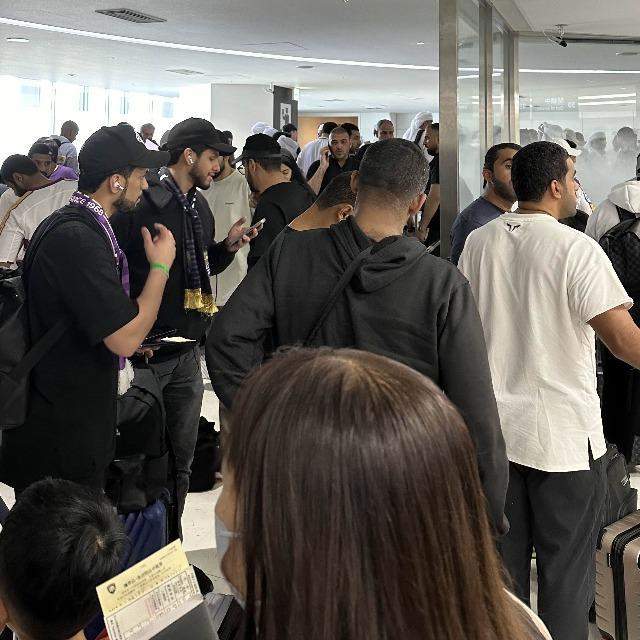NoHelmet: (354, 138, 431, 219), (509, 142, 583, 214)
NoVest: (458, 218, 615, 451)
